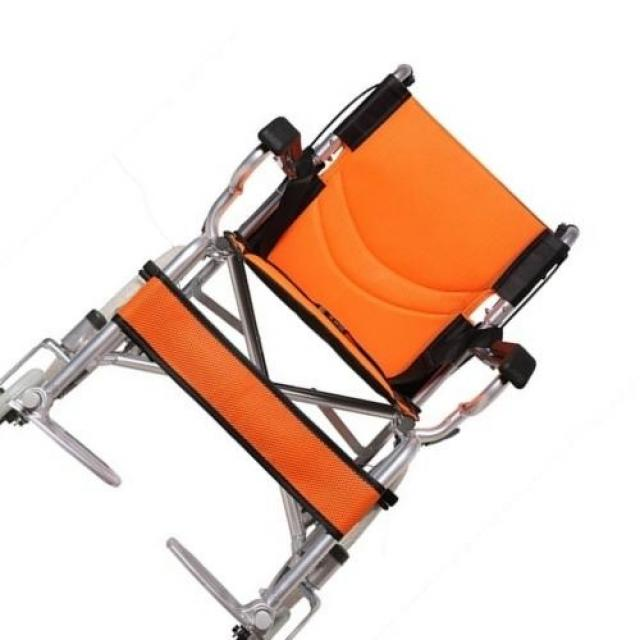wheelchair: (2, 53, 594, 640)
